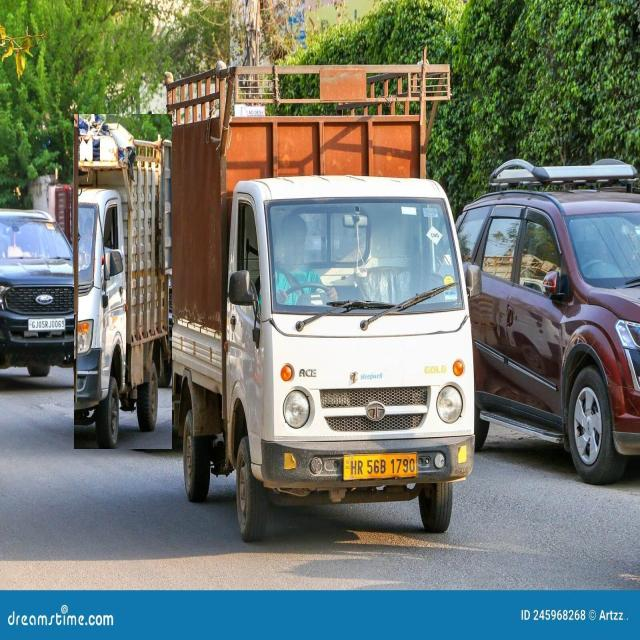car: (456, 159, 640, 484), (0, 209, 84, 385)
truck: (166, 62, 479, 540), (74, 114, 172, 449)
